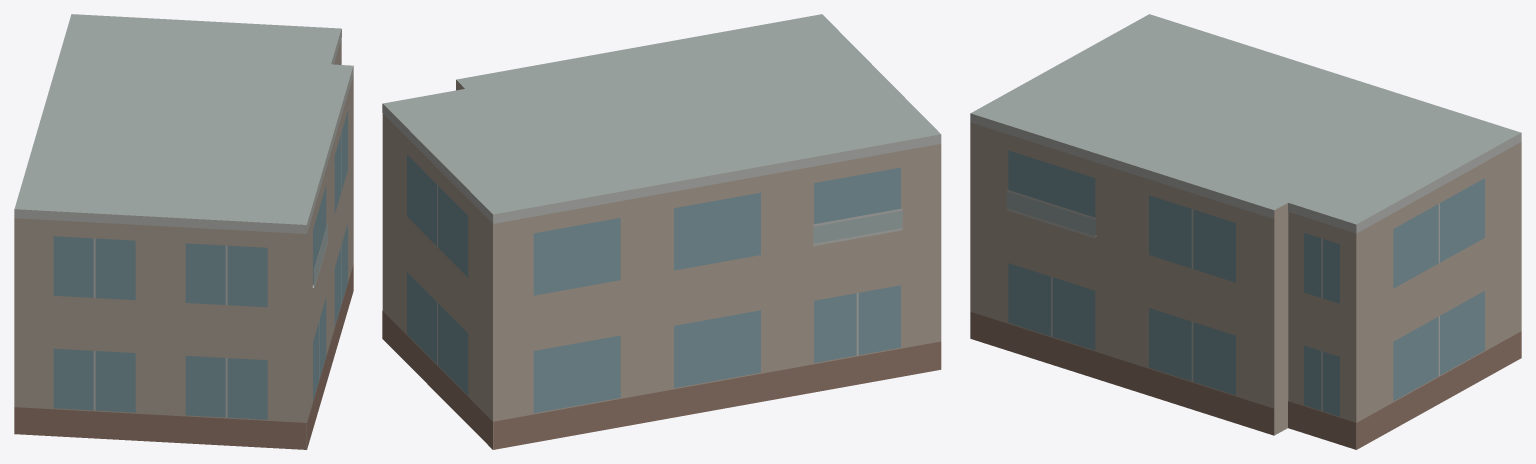
The model's file is survey-upis-32820977.glb.
3 views of the same model, side by side, from view 1: azimuth 30°, elevation 25°; view 2: azimuth 150°, elevation 25°; view 3: azimuth 270°, elevation 25° (orthographic). The views are drawn at different scales.
Parts seen in each view (by area): view 1: survey-upis-32820977.tmp; view 2: survey-upis-32820977.tmp; view 3: survey-upis-32820977.tmp.
Boxes of the visible parts, x1,y1,x2,y2 form: survey-upis-32820977.tmp: (14,14,353,449); survey-upis-32820977.tmp: (382,14,941,449); survey-upis-32820977.tmp: (970,14,1521,449).
Bounding box in the file's own units: 12.23 × 6.1 × 13.53.
